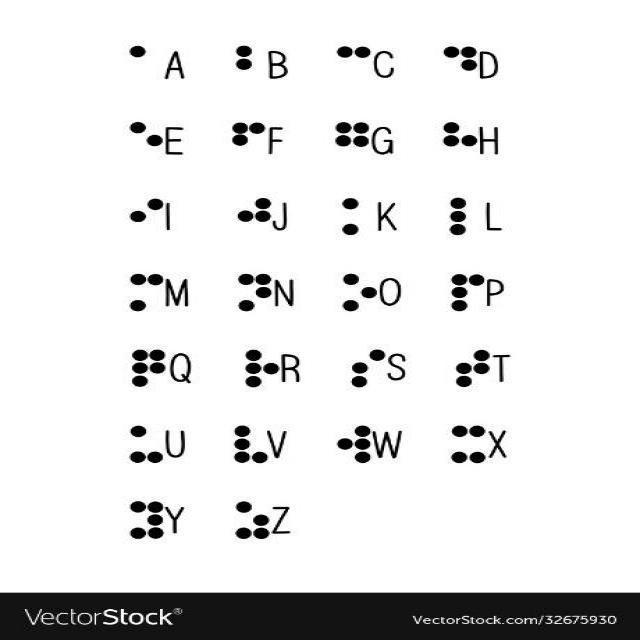braiile: (230, 498, 274, 544), (347, 344, 388, 392), (124, 194, 166, 240), (338, 271, 380, 317), (452, 345, 494, 391), (438, 118, 477, 166), (124, 43, 164, 89), (233, 194, 273, 240), (446, 195, 486, 241), (239, 346, 281, 389), (234, 270, 275, 314), (447, 270, 488, 314), (125, 268, 164, 314), (125, 423, 164, 469), (128, 347, 170, 389), (332, 120, 372, 164), (124, 498, 164, 542), (127, 118, 165, 164), (228, 118, 267, 162), (334, 423, 373, 467), (449, 423, 488, 467), (230, 422, 268, 466), (338, 195, 376, 238), (336, 44, 372, 86), (233, 44, 268, 86), (441, 44, 477, 84)
